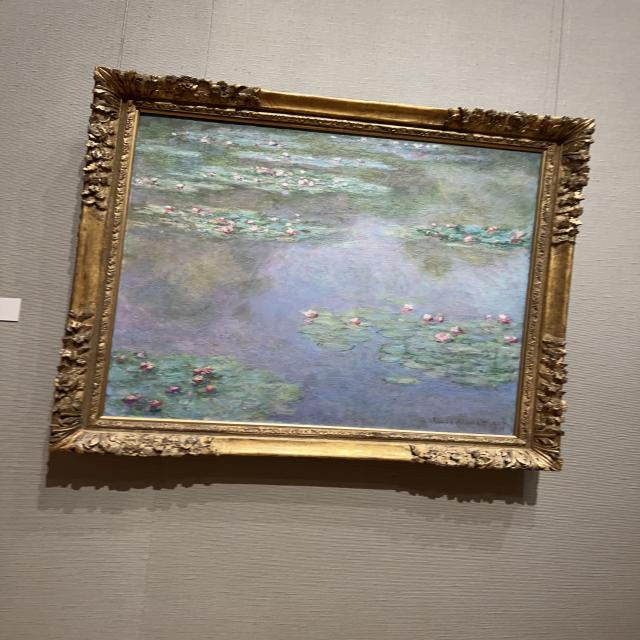lilies: (105, 118, 541, 433)
